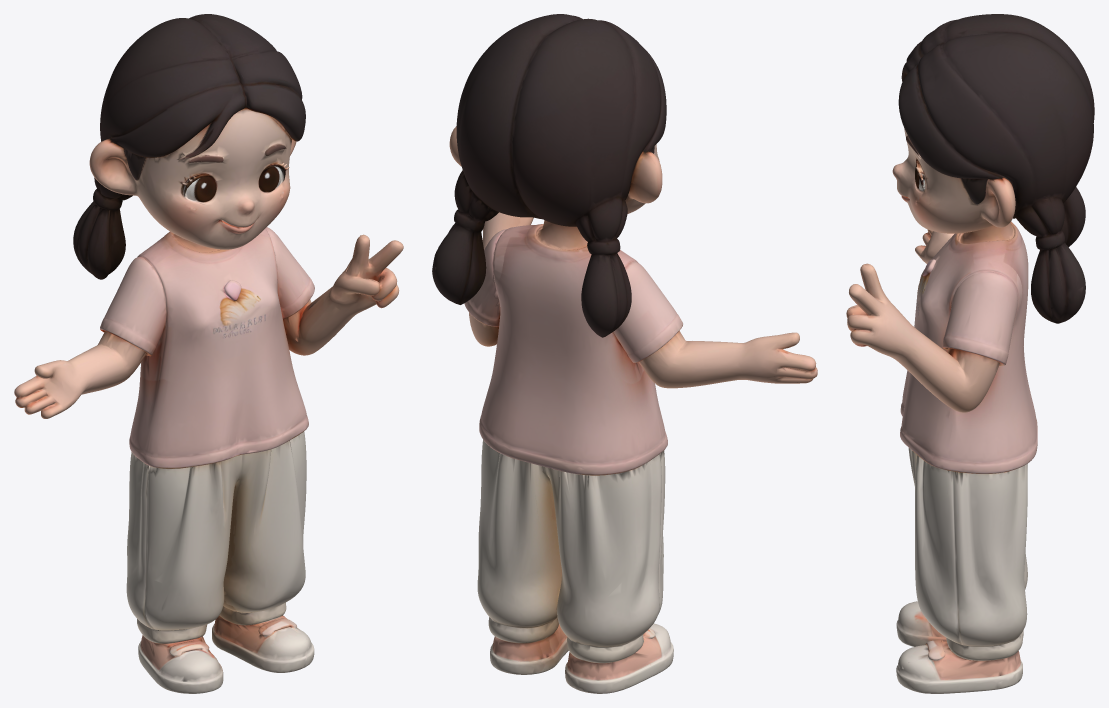
The model's file is girl_web.glb.
The picture shows the model from 3 angles, left to right: view 1: azimuth 30°, elevation 25°; view 2: azimuth 150°, elevation 25°; view 3: azimuth 270°, elevation 25°; orthographic projection. The views are drawn at different scales.
Parts seen in each view (by area): view 1: node_0; view 2: node_0; view 3: node_0.
Boxes of the visible parts, x1,y1,x2,y2 form: node_0: [14, 14, 403, 693]; node_0: [432, 14, 817, 693]; node_0: [846, 14, 1094, 693].
Size of the model in its own units: 0.6511 by 1.12 by 0.3968.
1 material, 1 textured.
